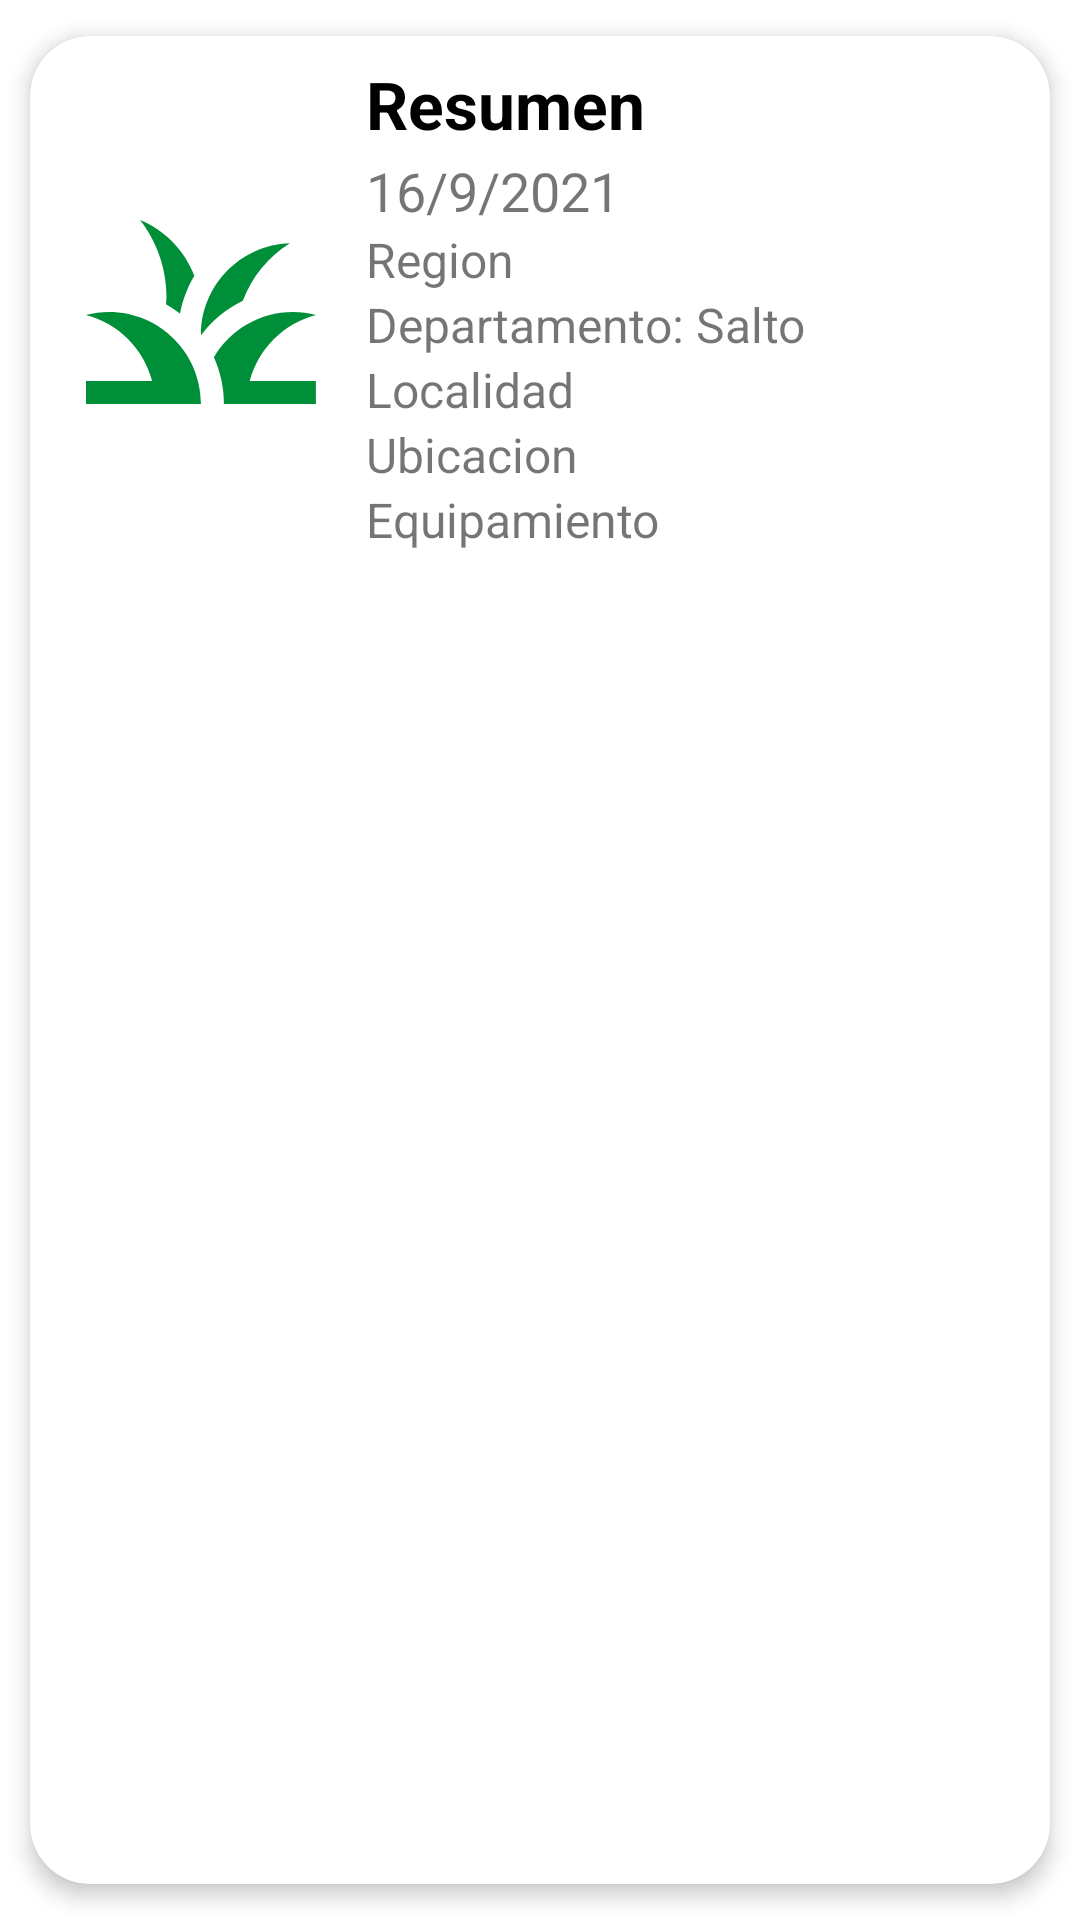

Icon click points for this 1080w x 1920h phone screenshot, format [x,y]:
grass: [201,312]
